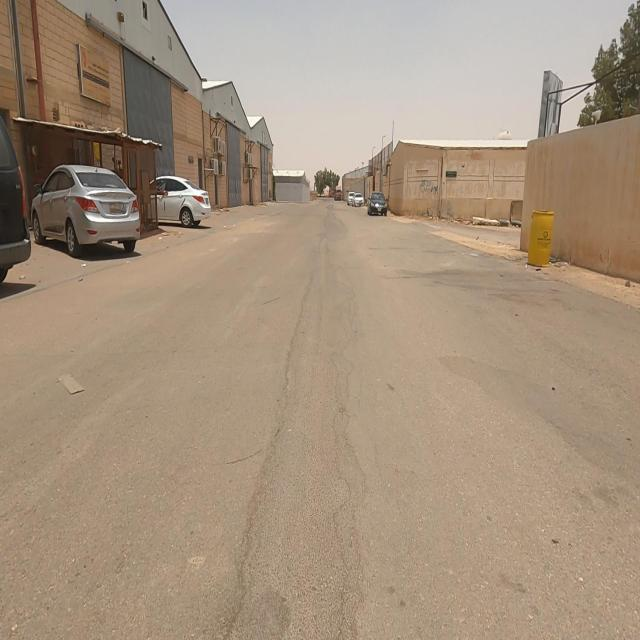Graffiti: (422, 181, 440, 197)
